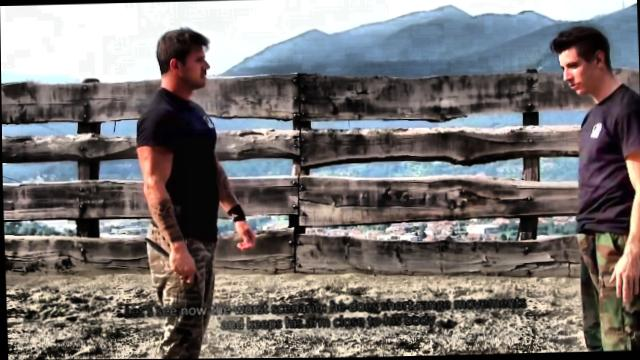knife: (140, 232, 203, 285)
